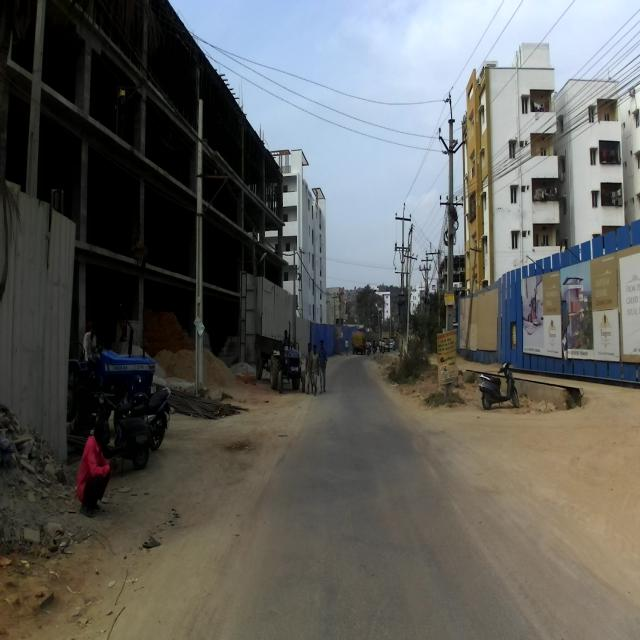person ahead at: (67, 414, 115, 519)
